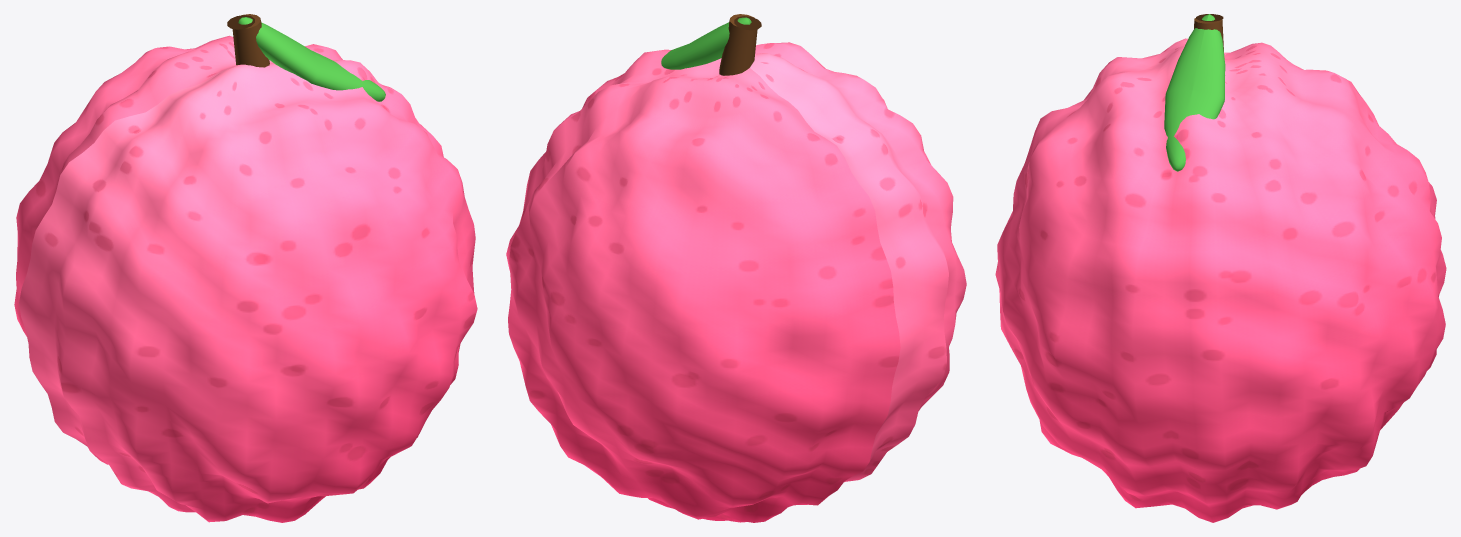
File: lychee-whole.glb
3 views of the same model, side by side, from view 1: azimuth 30°, elevation 25°; view 2: azimuth 150°, elevation 25°; view 3: azimuth 270°, elevation 25° (orthographic). The views are drawn at different scales.
Bounding box in the file's own units: 1.47 × 1.72 × 1.46.
Materials: 4 (1 with a texture image).
